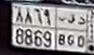6: (32, 6, 43, 48)
8: (23, 6, 33, 46), (14, 7, 24, 46)
9: (43, 8, 52, 48)
B: (57, 13, 67, 48)
D: (75, 15, 86, 49)
G: (66, 13, 76, 47)
